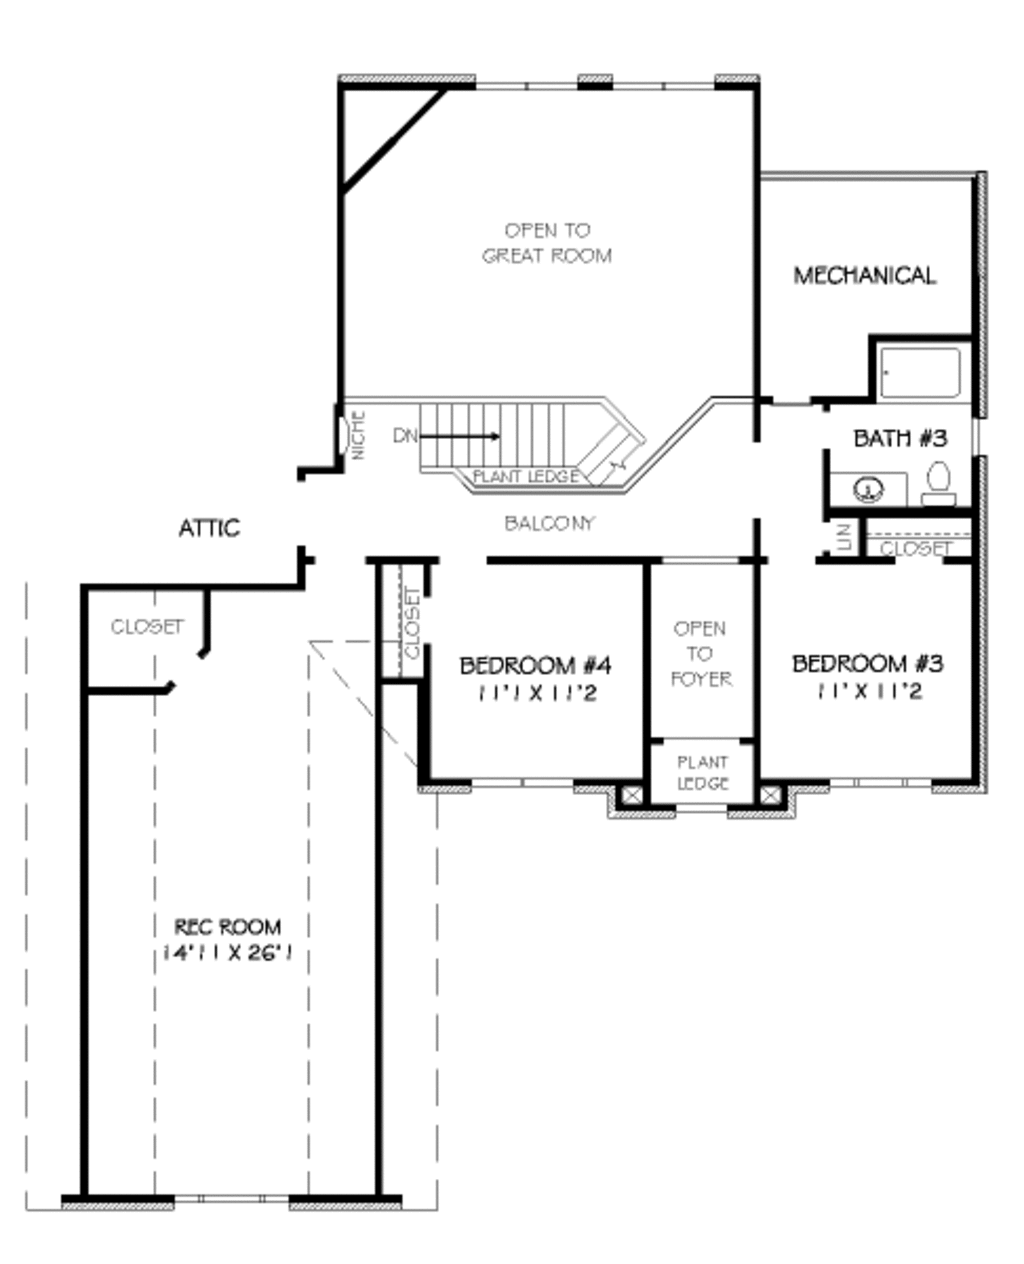large_sink: (901, 447, 965, 508)
small_sink: (830, 466, 903, 507)
stairs: (351, 393, 647, 501)
tub: (878, 332, 972, 409)
window: (478, 80, 574, 97), (610, 78, 705, 95)
